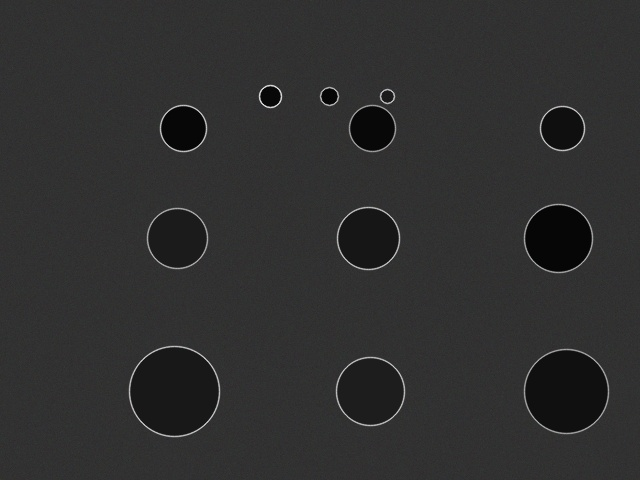hole: (129, 346, 219, 436), (524, 349, 608, 433), (524, 204, 592, 272), (336, 357, 404, 425), (337, 207, 399, 269), (147, 208, 207, 268), (160, 105, 206, 151), (349, 105, 395, 151), (540, 106, 584, 150), (259, 85, 281, 107), (320, 87, 338, 105), (380, 89, 394, 103)
